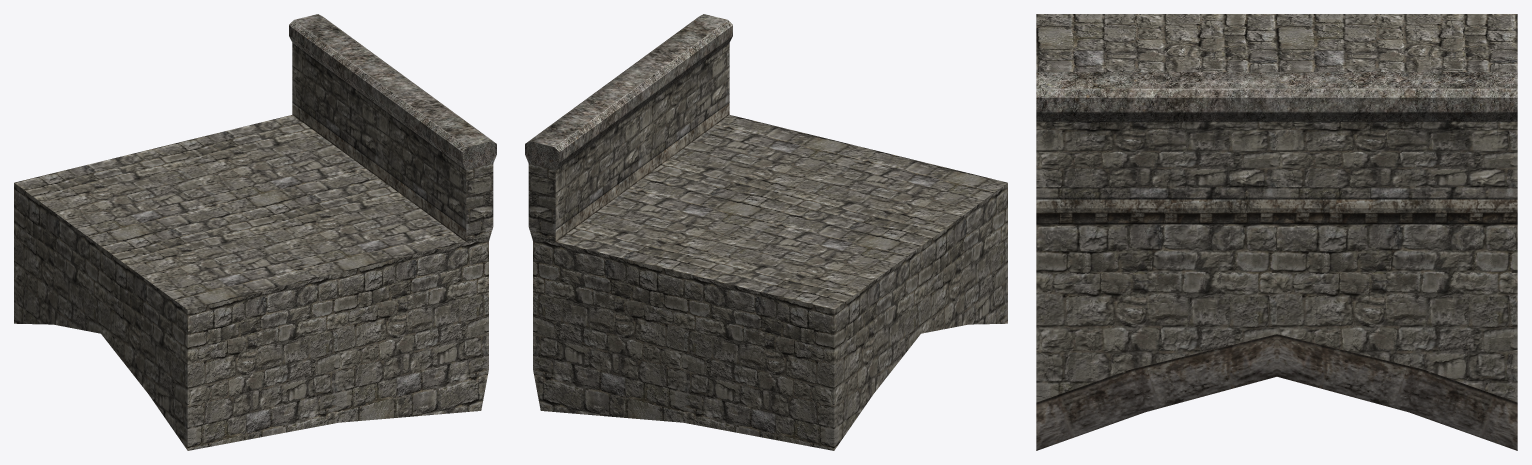
File: StoneBridge_BracingDoubleSide.dae
3 views of the same model, side by side, from view 1: azimuth 30°, elevation 25°; view 2: azimuth 150°, elevation 25°; view 3: azimuth 270°, elevation 25° (orthographic). The views are drawn at different scales.
Parts seen in each view (by area): view 1: DoubleBracingSide, DoubleBracingSideW; view 2: DoubleBracingSide, DoubleBracingSideW; view 3: DoubleBracingSideW, DoubleBracingSide.
Boxes of the visible parts, box(x1,y1,x2,y2) form: DoubleBracingSide: box(14, 115, 488, 450); DoubleBracingSideW: box(289, 14, 496, 241); DoubleBracingSide: box(533, 115, 1007, 450); DoubleBracingSideW: box(525, 14, 732, 241); DoubleBracingSideW: box(1036, 72, 1517, 450); DoubleBracingSide: box(1036, 14, 1517, 402).
Bounding box in the file's own units: 4.11 × 3.39 × 4.
2 materials, 2 textured.
